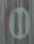Two way: (6, 6, 32, 42)
